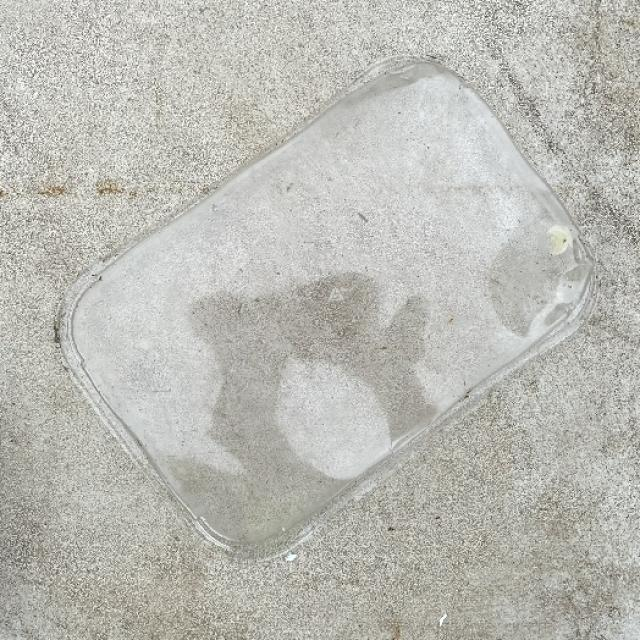inorganic: (50, 49, 594, 555)
